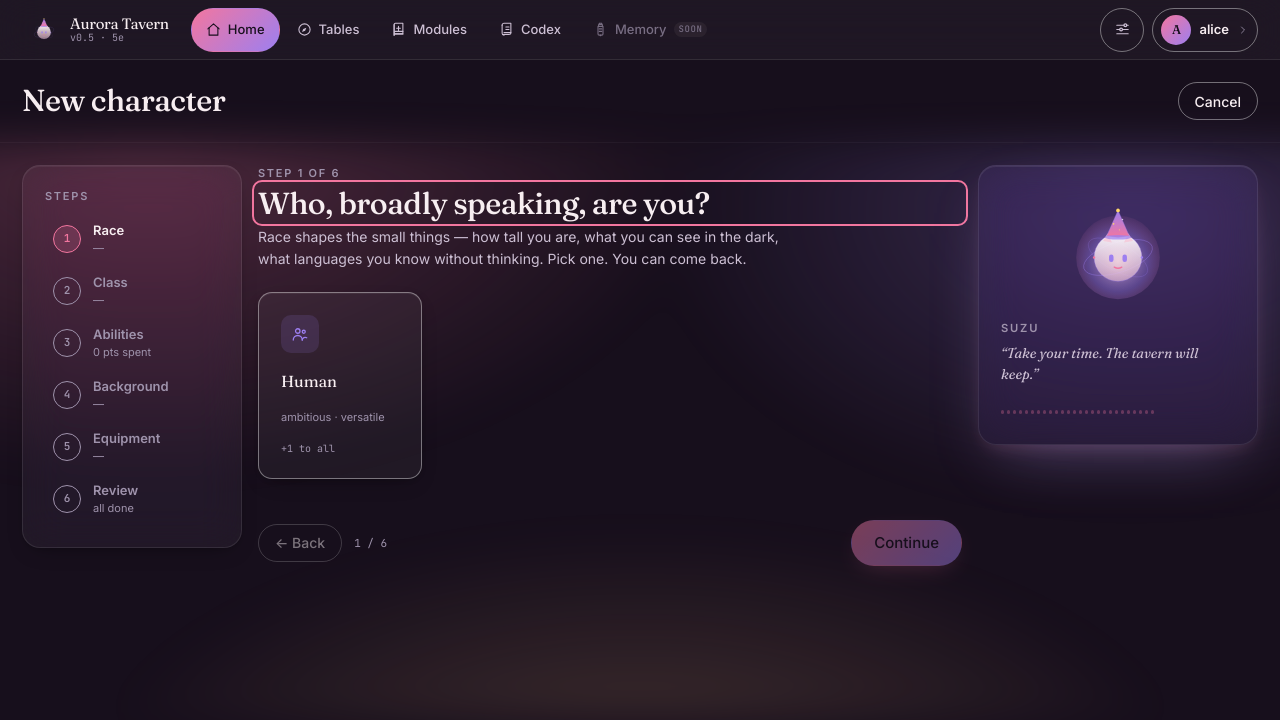
Test: Subclass step presence (TAV-WIZARD-HOMEBREW-CASTERS) › a class whose SLUG carries a prefix the NAME does not still matches its seeded subclasses
Step 1. Click the radio button labelled "Human ambitious · versatile +1 to all" → {"x": 340, "y": 386}, box x1=258 y1=292 x2=422 y2=479
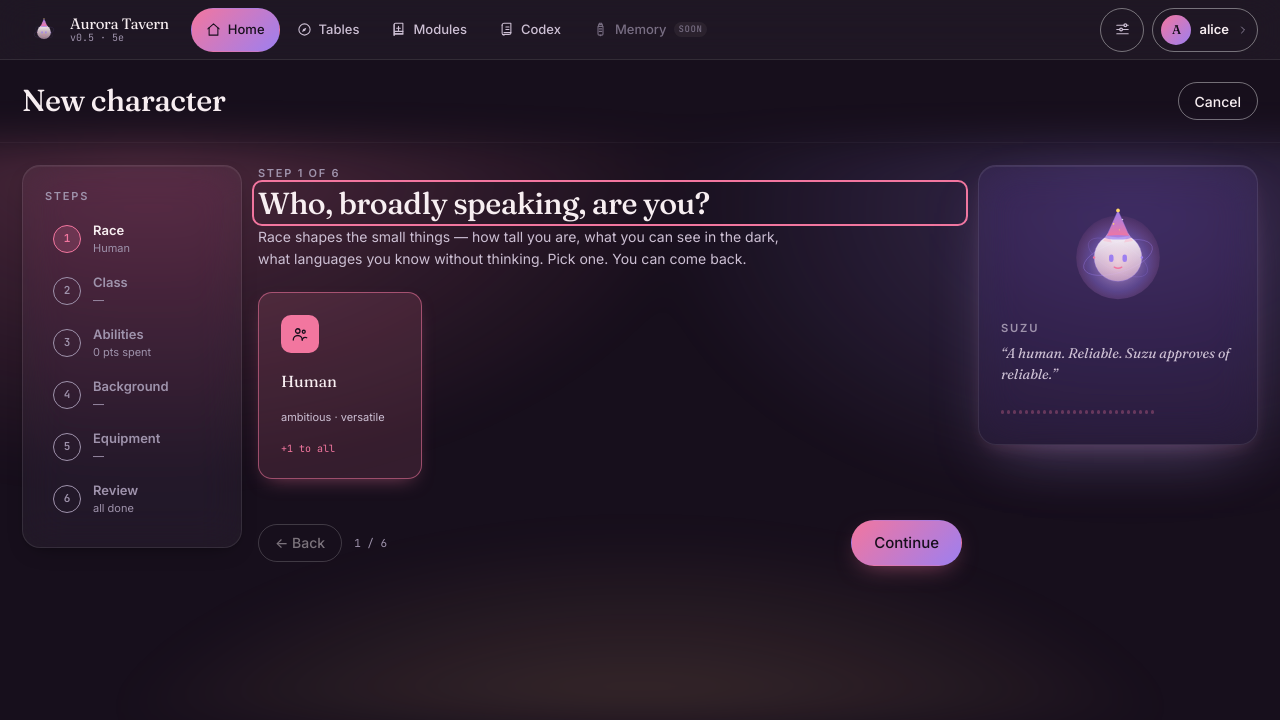
Step 2. Click the button "Continue" → {"x": 907, "y": 543}, box x1=851 y1=520 x2=962 y2=566
(page scrolled)
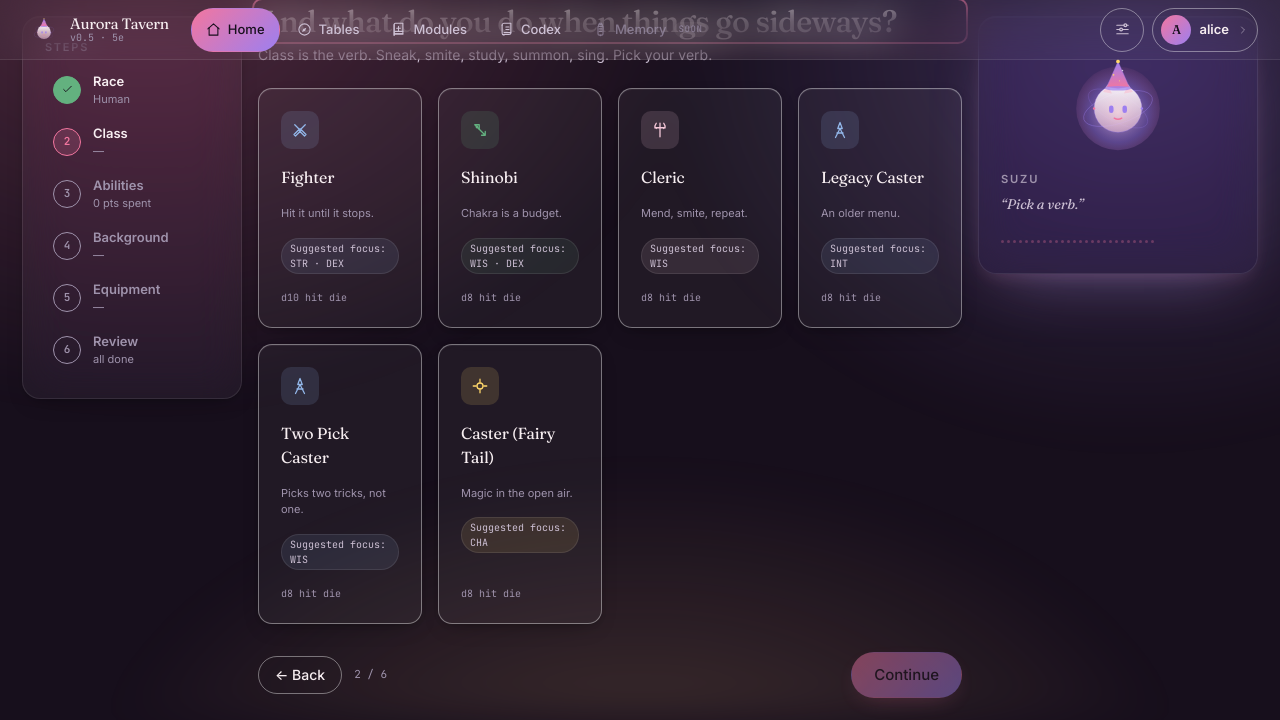
Step 3. Click the radio button labelled "Caster (Fairy Tail)" → {"x": 520, "y": 484}, box x1=438 y1=344 x2=602 y2=624
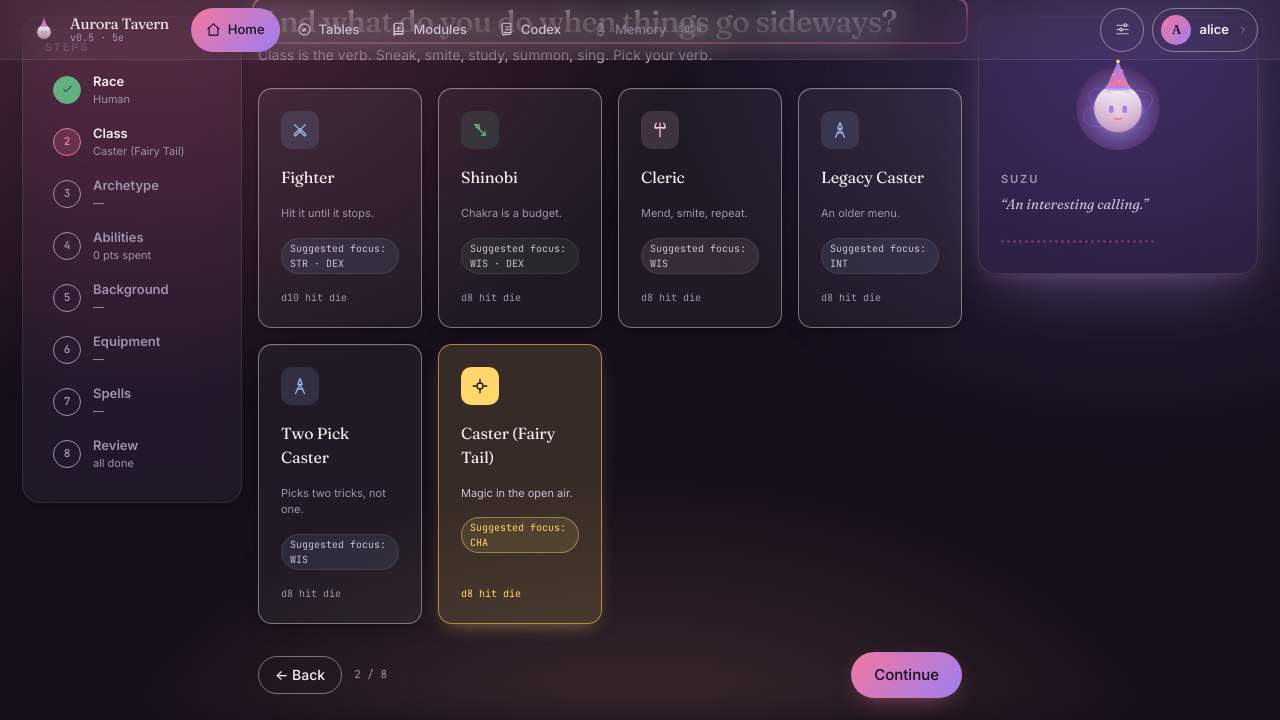
Step 4. Click the button "Continue" → {"x": 907, "y": 675}, box x1=851 y1=652 x2=962 y2=698
(page scrolled)
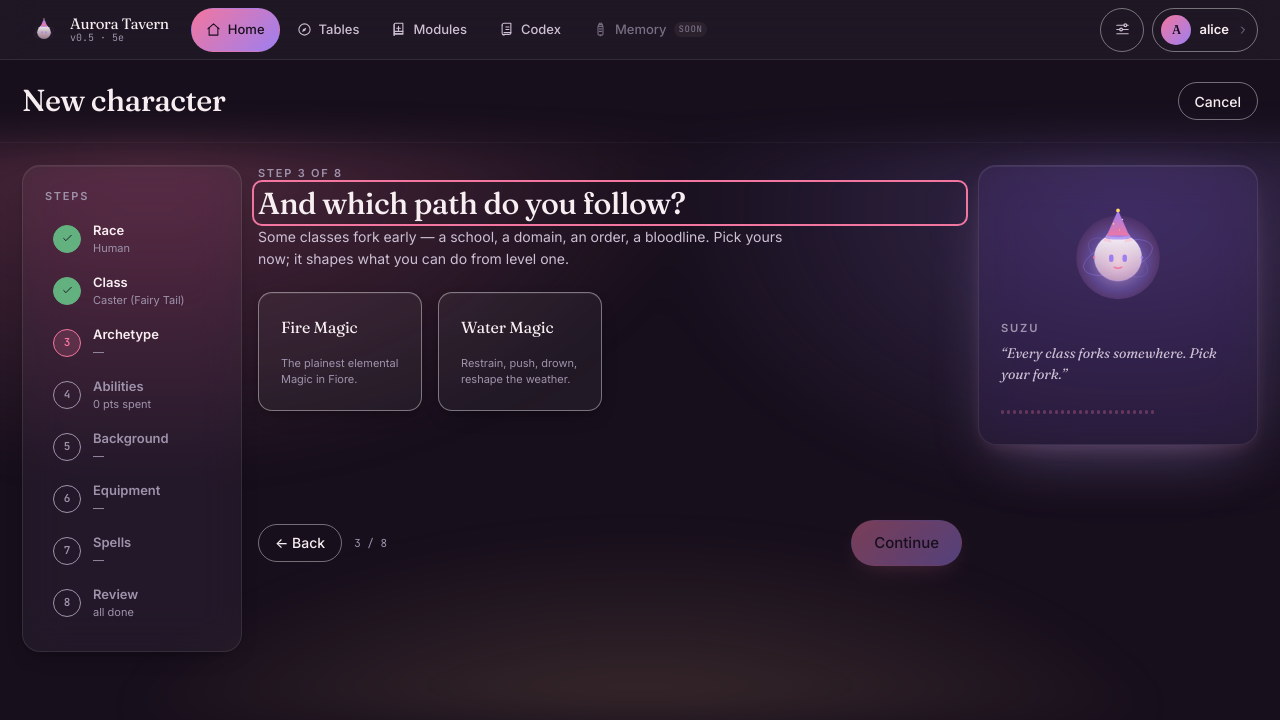
Check: the radio button labelled "Fire Magic The plainest elemental Magic in Fiore." is shown
Check: the radio button labelled "Water Magic Restrain, push, drown, reshape the weather." is shown, box x1=438 y1=292 x2=602 y2=411
Check: the button "Continue" is disabled, box x1=851 y1=520 x2=962 y2=566
Step 5. Click the radio button labelled "Fire Magic The plainest elemental Magic in Fiore." → {"x": 340, "y": 351}, box x1=258 y1=292 x2=422 y2=411
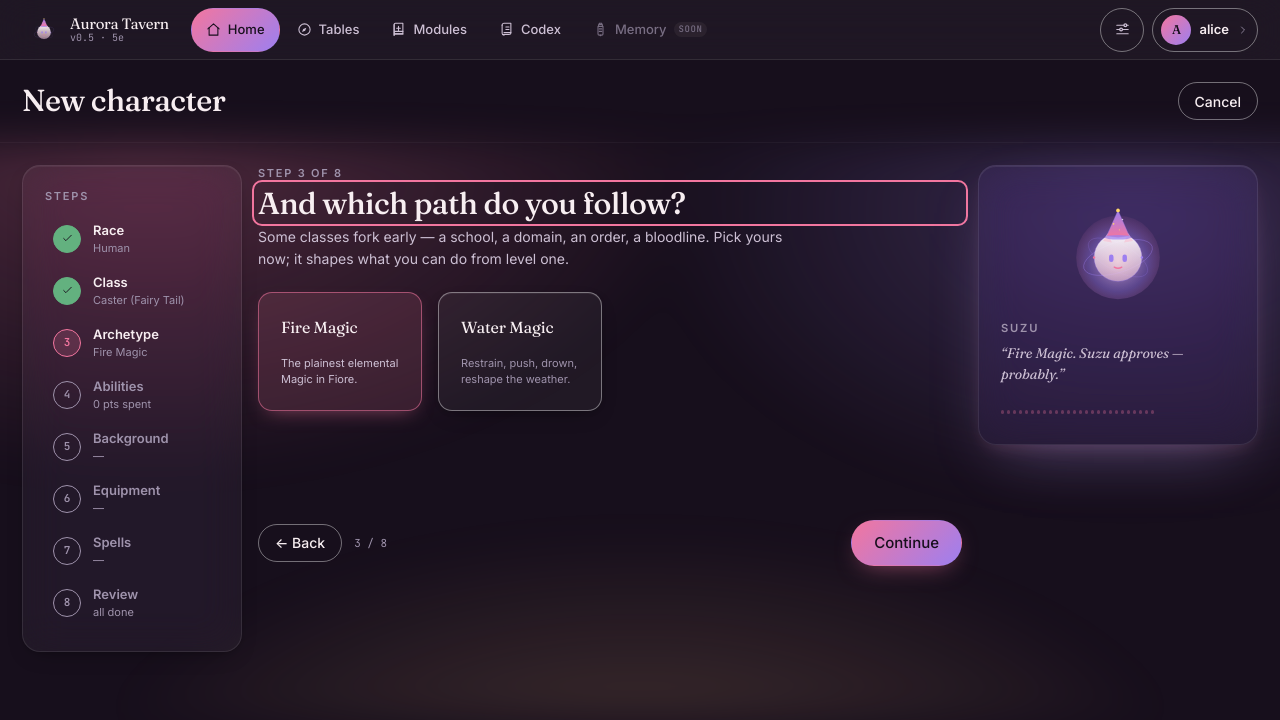
Check: the button "Continue" is enabled, box x1=851 y1=520 x2=962 y2=566
